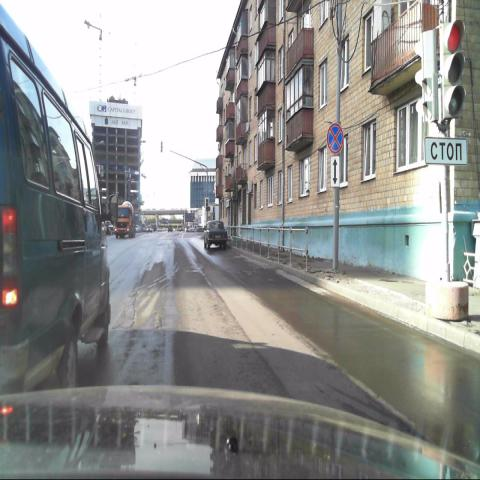8_2_4: (330, 153, 340, 187)
